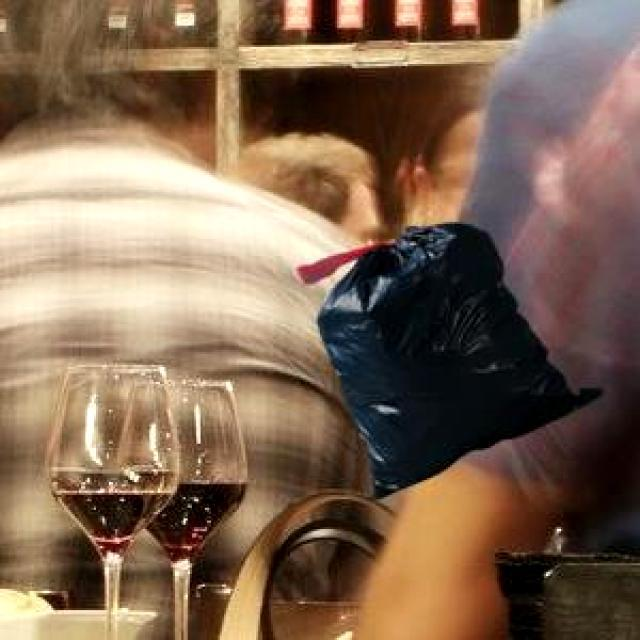Garbage_Bag: (294, 221, 600, 496)
